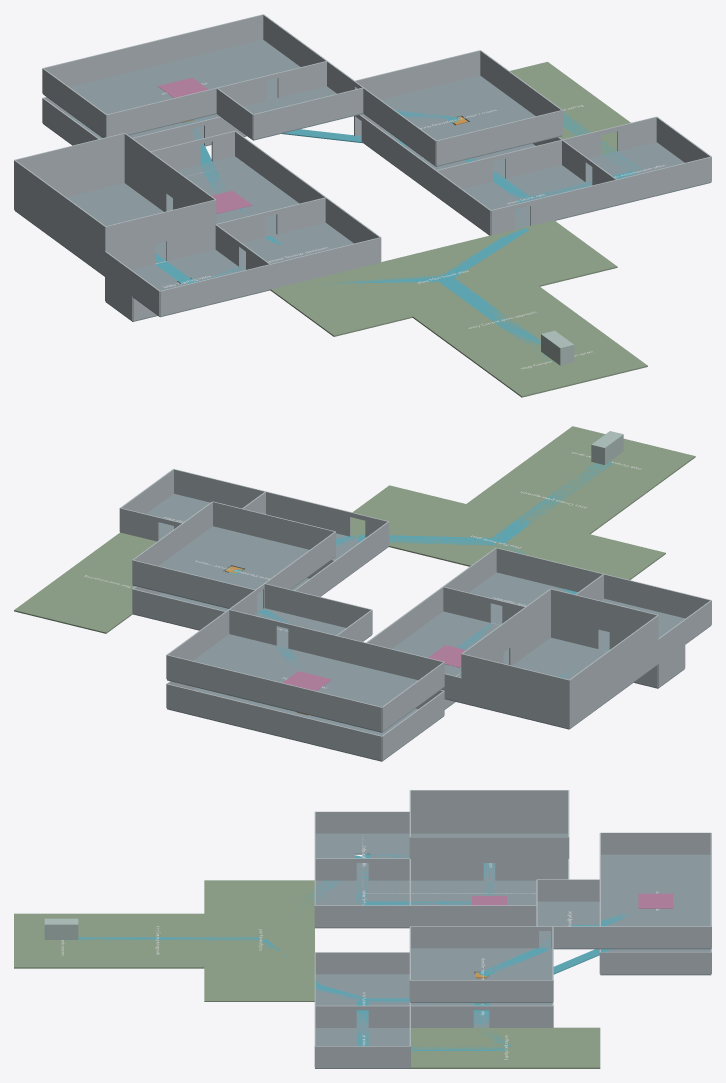
Rendered from rough-shell.glb.
The picture shows the model from 3 angles, top to bottom: view 1: azimuth 30°, elevation 25°; view 2: azimuth 150°, elevation 25°; view 3: azimuth 270°, elevation 25°; orthographic projection. The views are drawn at different scales.
Visible parts, largest first — view 1: Floor plaza, Floor entry, Floor stage, Wall stacks N, Wall lecture W, Wall lecture N, Floor rear, Wall stacks S, Wall dorm S, Floor union, Wall dorm N, Wall bridge S (+54 smaller); view 2: Floor plaza, Floor rear, Floor entry, Floor stage, Wall library N, Wall stacks N, Wall lecture N, Wall lecture W, Wall stacks S, Wall dorm N, Wall dorm S, Floor stacks.007 (+44 smaller); view 3: Floor plaza, Floor rear, Wall lecture W, Floor entry, Floor stage, Wall lecture E.001, Wall lecture E, Wall dorm E, Floor union, Wall dorm W.001, Wall lab E, Wall library E (+36 smaller).
Boxes of the visible parts, x1,y1,x2,y2 form: Floor plaza: (270,220,617,336); Floor entry: (412,286,592,357); Floor stage: (467,326,647,397); Wall stacks N: (43,14,263,86); Wall lecture W: (14,160,105,275); Wall lecture N: (14,133,124,197); Floor rear: (510,62,630,154); Wall stacks S: (106,76,266,136); Wall dorm S: (436,110,562,165); Floor union: (436,165,616,235); Wall dorm N: (355,50,480,99); Wall bridge S: (253,87,363,139); Floor plaza: (350,485,665,579); Floor rear: (14,532,156,633); Floor entry: (467,465,642,534); Floor stage: (520,426,695,495); Wall library N: (166,683,381,760); Wall stacks N: (166,655,381,731); Wall lecture N: (461,653,569,728); Wall lecture W: (569,615,658,728); Wall stacks S: (288,624,444,680); Wall dorm N: (132,560,255,608); Wall dorm S: (212,501,335,549); Floor stacks.007: (203,634,328,675); Floor plaza: (204,880,314,1001); Floor rear: (410,1027,600,1068); Wall lecture W: (410,790,568,833); Floor entry: (109,913,204,968); Floor stage: (14,913,108,968); Wall lecture E.001: (410,837,483,880); Wall lecture E: (495,837,568,880); Wall dorm E: (410,980,552,1001); Floor union: (315,974,409,1027); Wall dorm W.001: (410,926,538,948); Wall lab E: (410,905,536,926); Wall library E: (600,952,711,974).
Size of the model in its own units: 70.16 by 9.76 by 88.08.
